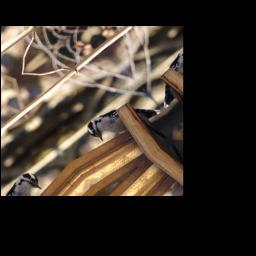Woodpecker: (83, 86, 178, 172)
